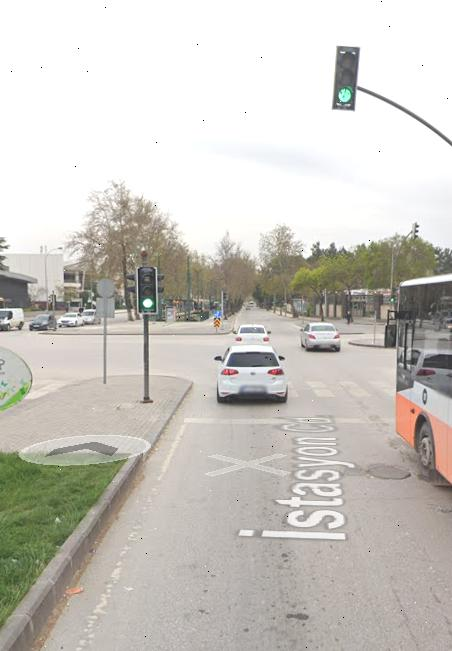greenlight: (329, 41, 366, 115), (132, 261, 165, 317)
